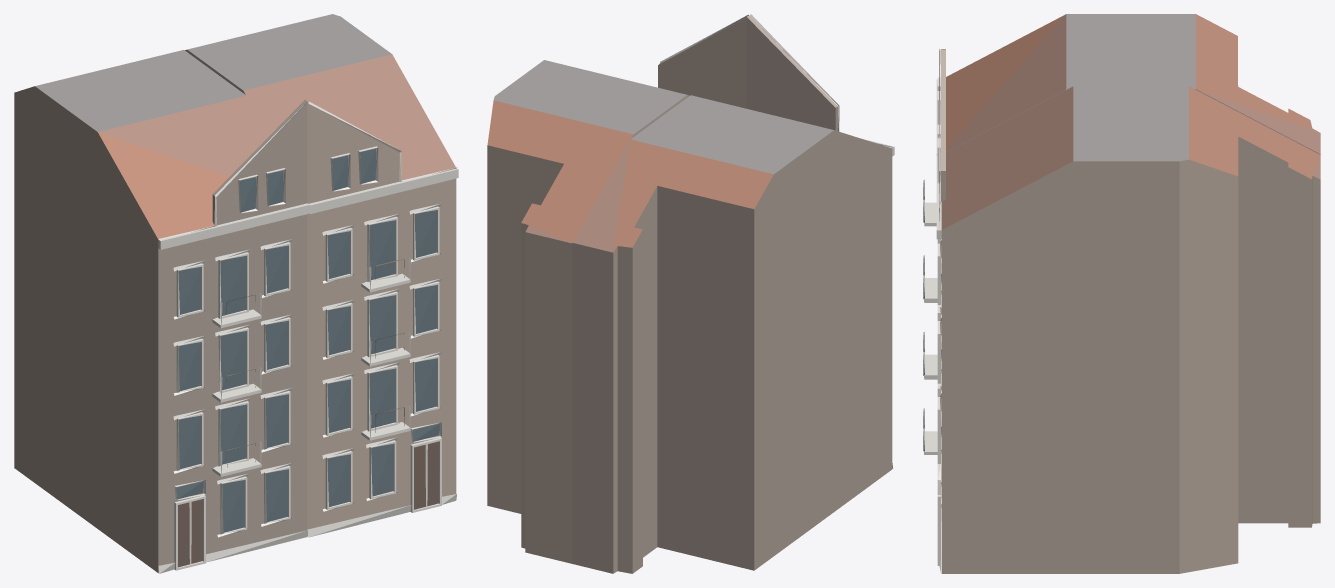
Rendered from chunk-face-transvaal-42-48-r1.lod2.glb.
The picture shows the model from 3 angles, left to right: view 1: azimuth 30°, elevation 25°; view 2: azimuth 150°, elevation 25°; view 3: azimuth 270°, elevation 25°; orthographic projection. The views are drawn at different scales.
Parts seen in each view (by area): view 1: lod2; view 2: lod2; view 3: lod2.
Boxes of the visible parts, x1,y1,x2,y2 form: lod2: [14, 14, 458, 573]; lod2: [487, 14, 894, 573]; lod2: [923, 14, 1320, 573].
Size of the model in its own units: 12.55 by 17.56 by 14.04.
